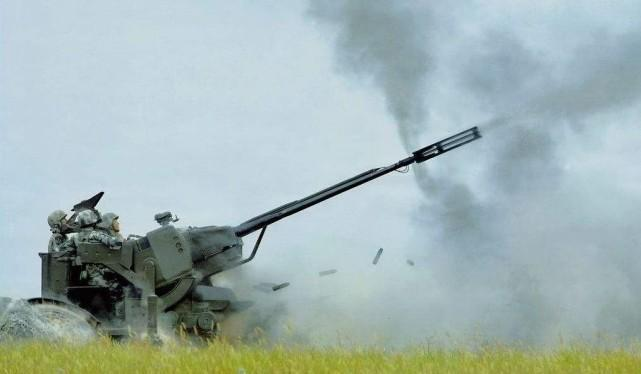MIL_SPG: (34, 126, 479, 336)
